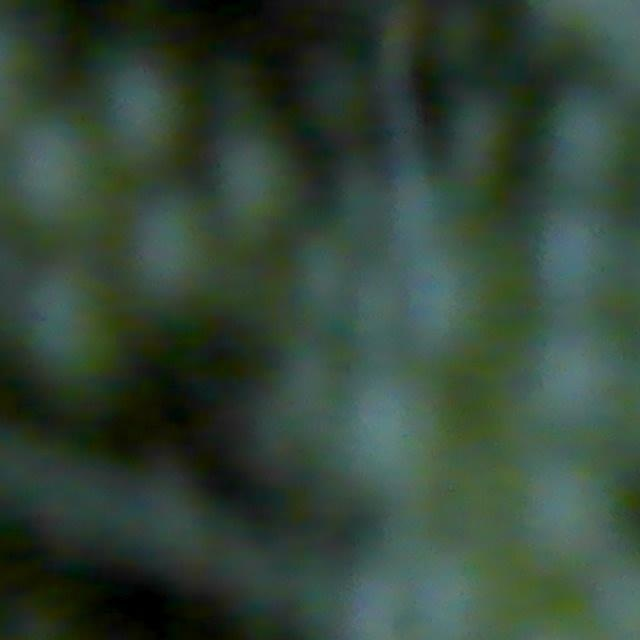SeaGrape: (4, 264, 133, 399), (508, 454, 634, 561), (124, 191, 225, 316), (95, 58, 192, 178), (0, 115, 99, 229), (346, 387, 450, 491), (528, 323, 611, 431), (544, 89, 636, 186), (214, 130, 302, 228), (533, 207, 623, 301), (400, 558, 496, 640), (444, 92, 514, 172)
